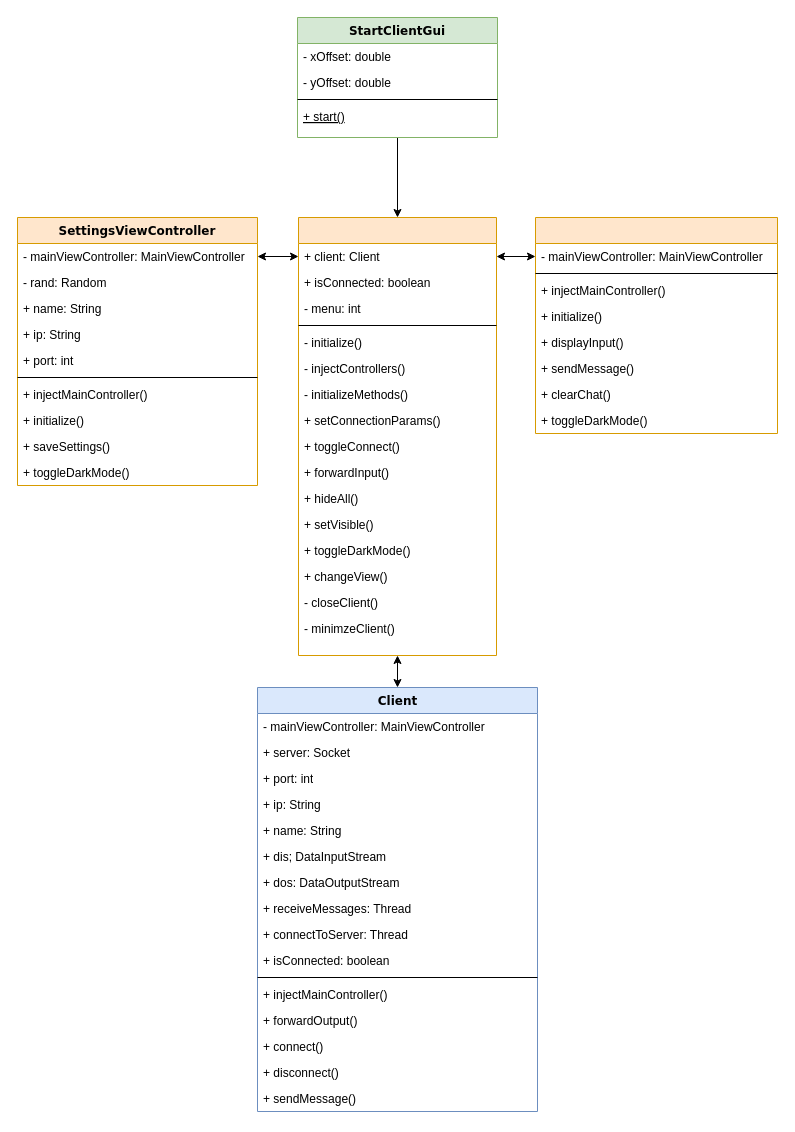
The diagram is 795 pixels wide and 1132 high, and some of its shapes have lost their labels. Each missing label, with the box of its shape:
ChatViewController: (534, 216, 778, 434)
MainViewController: (298, 216, 496, 656)
